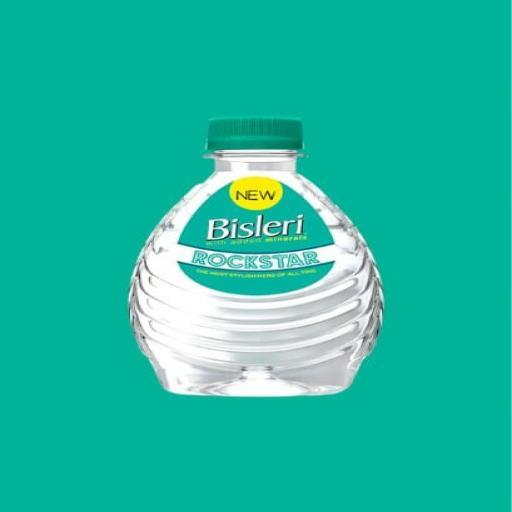bottle: (124, 116, 396, 400)
